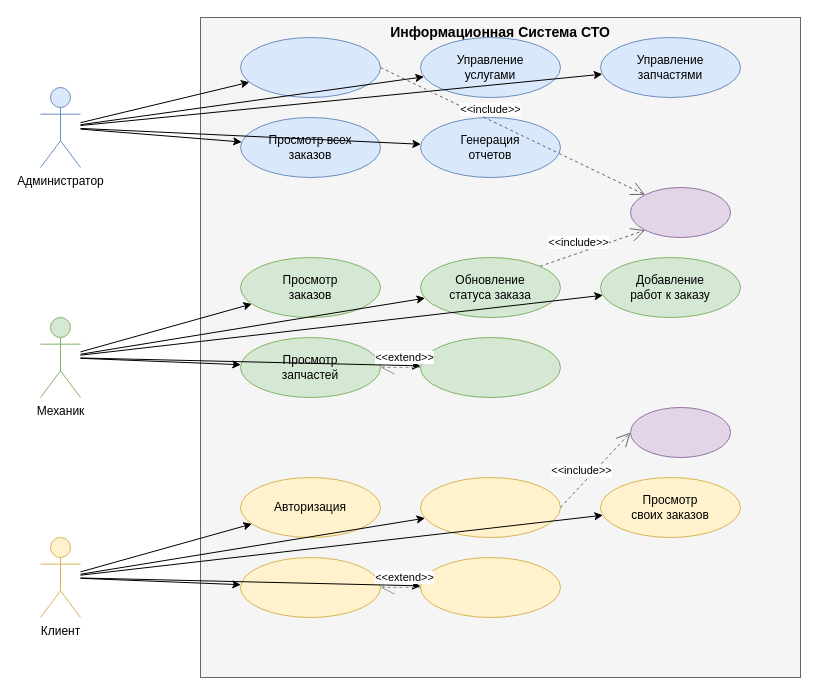
The diagram is 818 pixels wide and 695 high, and some of its shapes have lost their labels. Each missing label, with the centre of its shape:
"Валидация данных" goes at pixel 680 432.
"Заказ запчастей" goes at pixel 490 367.
"Просмотр стоимости" goes at pixel 490 587.
"Просмотр услуг" goes at pixel 310 587.
"Создание заявки" goes at pixel 490 507.
"Сохранение в БД" goes at pixel 680 212.
"Управление пользователями" goes at pixel 310 67.
